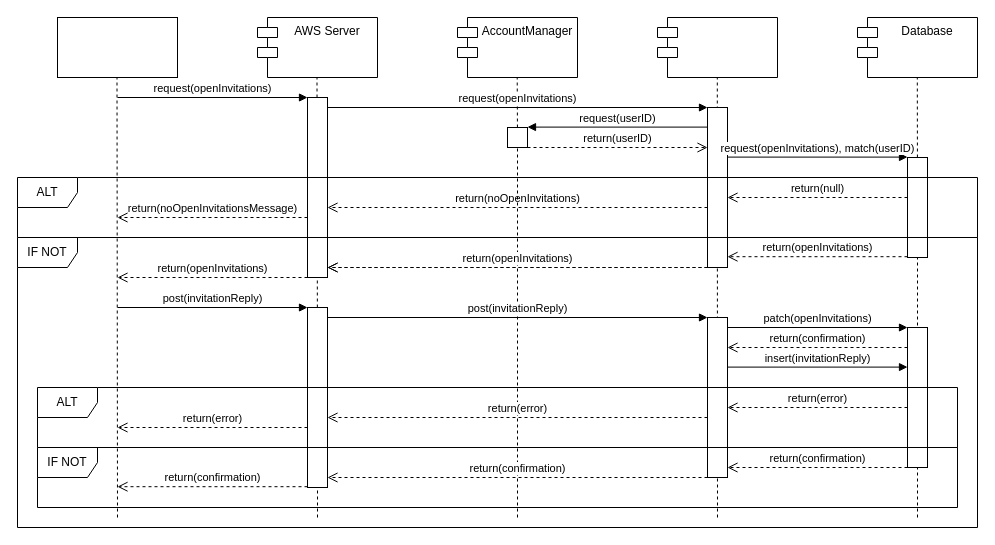
Some shapes in this 995 by 545 pixel diagram are drawn without their labels. The centre of each missing label's shape, as x and y in pixels:
Internship Manager: point 717,47
S&C Web App Instance: point 117,47
